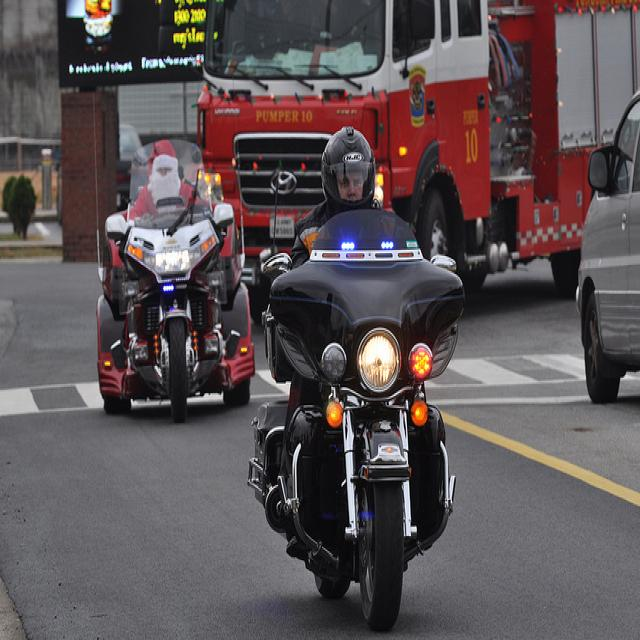motor: (251, 210, 467, 628), (95, 124, 260, 428)
